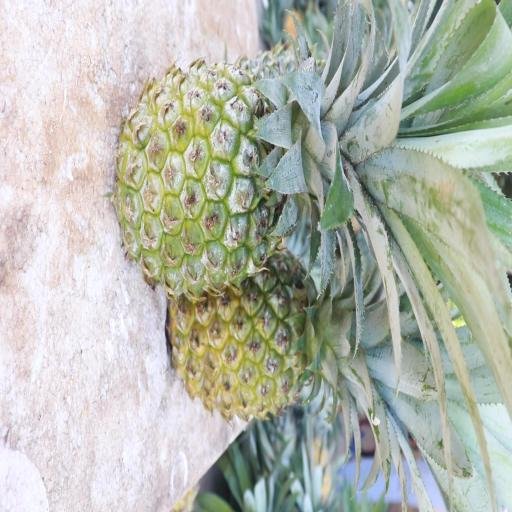------------------------------: (108, 52, 381, 302)
Pineapple - v8 v1: (162, 234, 397, 428)
